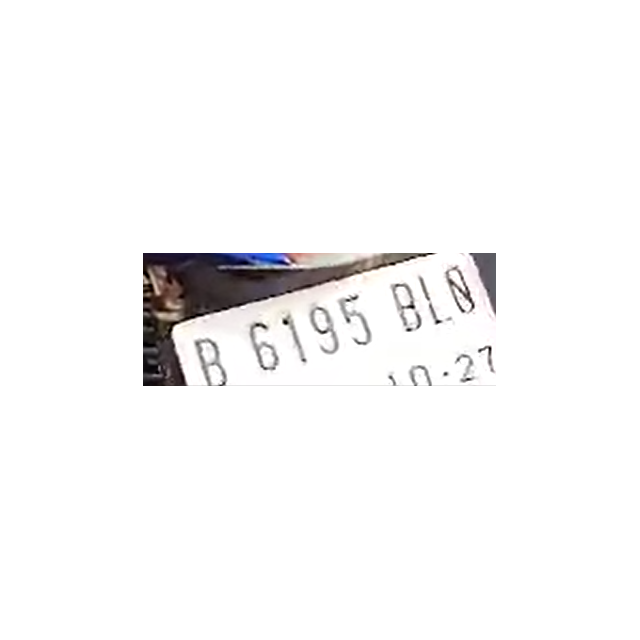contain: (419, 274, 460, 330), (339, 290, 376, 350), (444, 267, 484, 319), (390, 280, 427, 335), (190, 336, 228, 386), (305, 307, 342, 357), (247, 322, 283, 373), (281, 311, 309, 366)
